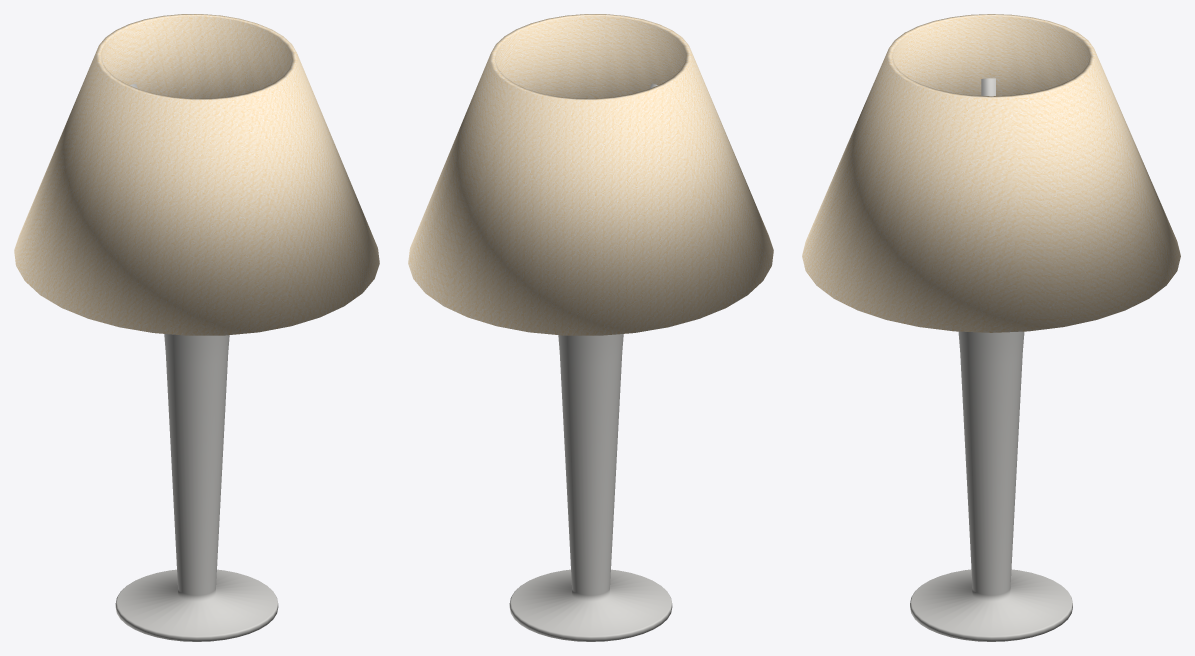
Rendered from Lamp.fbx.
3 renders of one model, left to right at view 1: azimuth 30°, elevation 25°; view 2: azimuth 150°, elevation 25°; view 3: azimuth 270°, elevation 25°, orthographic.
Parts seen in each view (by area): view 1: LampTopPart, LampBotPart; view 2: LampTopPart, LampBotPart; view 3: LampTopPart, LampBotPart.
Boxes of the visible parts, left/top/right/bottom form: LampTopPart: left=14, top=14, right=379, bottom=335; LampBotPart: left=115, top=84, right=278, bottom=641; LampTopPart: left=408, top=14, right=773, bottom=335; LampBotPart: left=509, top=83, right=672, bottom=641; LampTopPart: left=802, top=14, right=1180, bottom=332; LampBotPart: left=910, top=78, right=1072, bottom=641.
Bounding box in the file's own units: 25.84 × 43.32 × 27.
